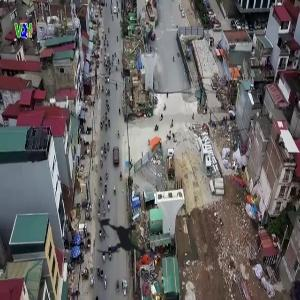drone: (67, 183, 182, 298)
